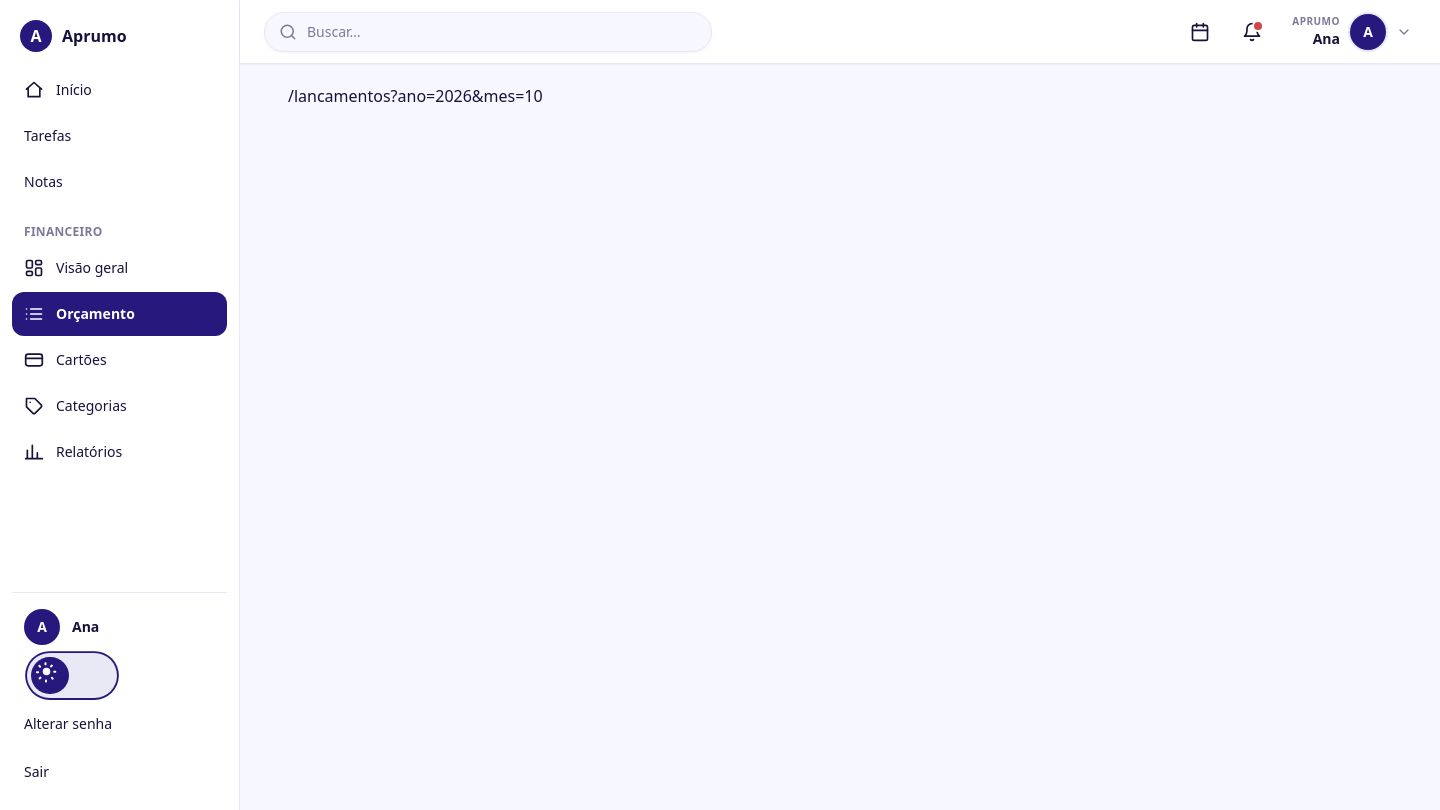
PaletaNavegacao › clicar numa opção navega e fecha
The image size is (1440, 810).
Type keys "{Control>}k{/Control}"
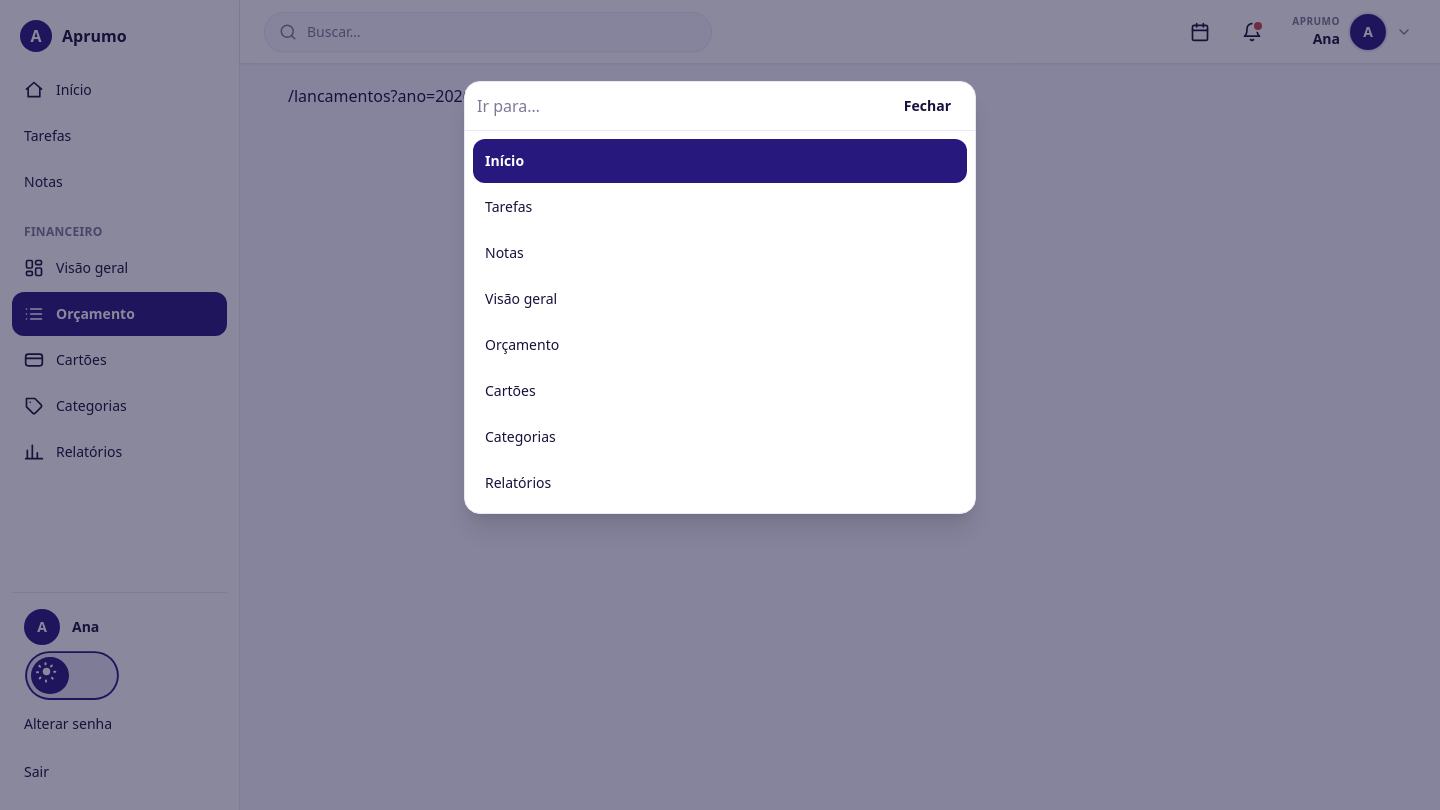
Click the option "Cartões": (510, 390) top-left (485, 381), bottom-right (536, 400)
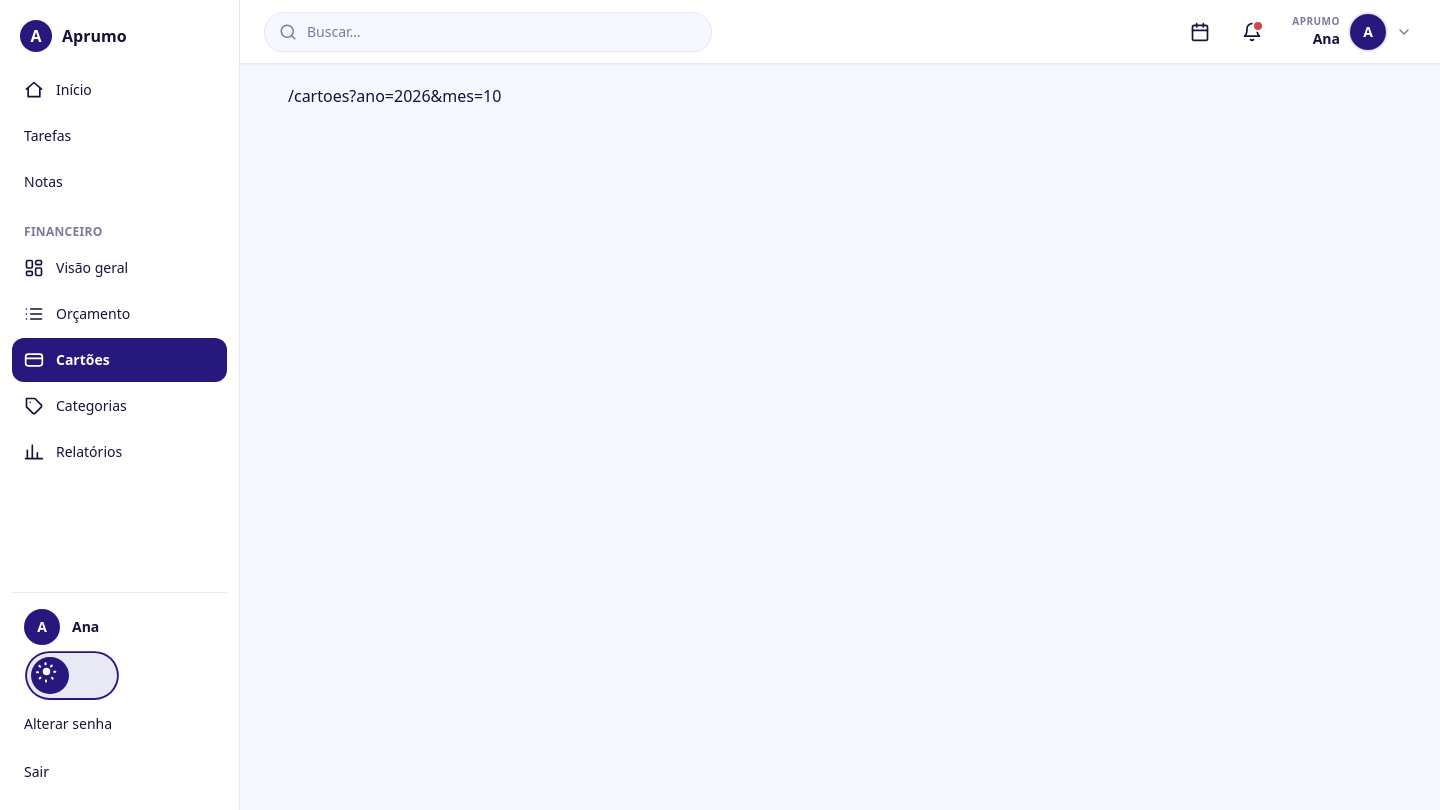
Check: the dialog "Ir para" is not shown
Check: the text with test id "local" reads "/cartoes?ano=2026&mes=10", box top-left (288, 85), bottom-right (501, 107)
